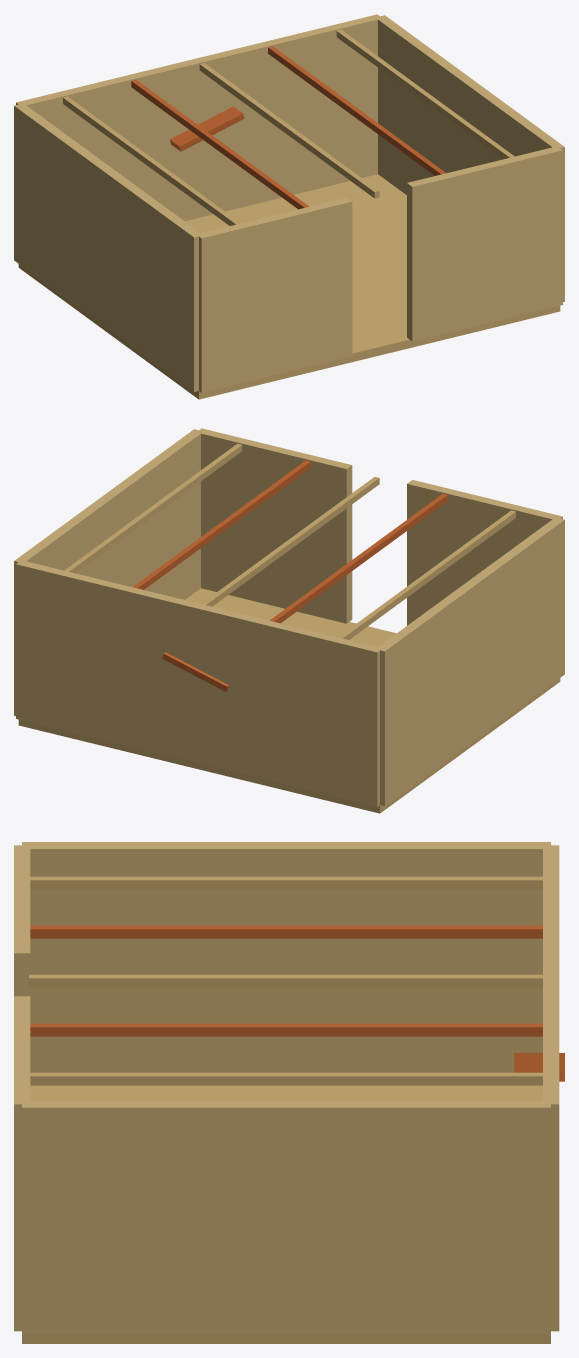
Rendered from camp_station.glb.
3 renders of one model, top to bottom at view 1: azimuth 30°, elevation 25°; view 2: azimuth 150°, elevation 25°; view 3: azimuth 270°, elevation 25°, orthographic. The views are drawn at different scales.
Visible parts, largest first — view 1: wall_north, wall_west, wall_south_right, wall_south_left, wall_east, floor, ceiling_beam_0, ceiling_beam_2, ceiling_beam_-1, ceiling_beam_1, ceiling_beam_-2, purpose_rope_bridge_station; view 2: wall_north, wall_west, wall_south_right, wall_east, wall_south_left, floor, ceiling_beam_0, ceiling_beam_2, ceiling_beam_-1, ceiling_beam_1, ceiling_beam_-2, purpose_rope_bridge_station; view 3: wall_east, wall_west, floor, ceiling_beam_0, ceiling_beam_-2, ceiling_beam_-1, ceiling_beam_1, ceiling_beam_2, wall_north, wall_south_right, wall_south_left, purpose_rope_bridge_station.
Boxes of the visible parts, left/top/right/bottom form: wall_north: left=16, top=14, right=382, bottom=221; wall_west: left=14, top=104, right=203, bottom=391; wall_south_right: left=407, top=146, right=562, bottom=341; wall_south_left: left=199, top=197, right=352, bottom=392; wall_east: left=377, top=15, right=564, bottom=301; floor: left=18, top=174, right=560, bottom=399; ceiling_beam_0: left=199, top=63, right=379, bottom=198; ceiling_beam_2: left=336, top=29, right=514, bottom=159; ceiling_beam_-1: left=131, top=80, right=308, bottom=209; ceiling_beam_1: left=268, top=46, right=445, bottom=175; ceiling_beam_-2: left=63, top=96, right=240, bottom=225; purpose_rope_bridge_station: left=170, top=106, right=244, bottom=151; wall_north: left=16, top=561, right=382, bottom=806; wall_west: left=376, top=517, right=564, bottom=805; wall_south_right: left=197, top=428, right=352, bottom=623; wall_east: left=14, top=429, right=203, bottom=715; wall_south_left: left=407, top=480, right=562, bottom=625; floor: left=18, top=588, right=560, bottom=813; ceiling_beam_0: left=201, top=477, right=379, bottom=606; ceiling_beam_2: left=64, top=443, right=242, bottom=573; ceiling_beam_-1: left=270, top=494, right=447, bottom=623; ceiling_beam_1: left=133, top=460, right=310, bottom=589; ceiling_beam_-2: left=338, top=510, right=515, bottom=639; purpose_rope_bridge_station: left=162, top=652, right=228, bottom=691; wall_east: left=22, top=1101, right=550, bottom=1334; wall_west: left=22, top=842, right=550, bottom=1072; floor: left=22, top=1085, right=550, bottom=1343; ceiling_beam_0: left=29, top=974, right=542, bottom=987; ceiling_beam_-2: left=30, top=876, right=542, bottom=889; ceiling_beam_-1: left=30, top=925, right=542, bottom=938; ceiling_beam_1: left=30, top=1023, right=542, bottom=1036; ceiling_beam_2: left=30, top=1072, right=542, bottom=1085; wall_north: left=543, top=845, right=559, bottom=1331; wall_south_right: left=14, top=996, right=30, bottom=1331; wall_south_left: left=14, top=845, right=30, bottom=996; purpose_rope_bridge_station: left=514, top=1053, right=564, bottom=1081.
Size of what is drawn, in the model's own units: 13.55 by 5.7 by 11.88.
